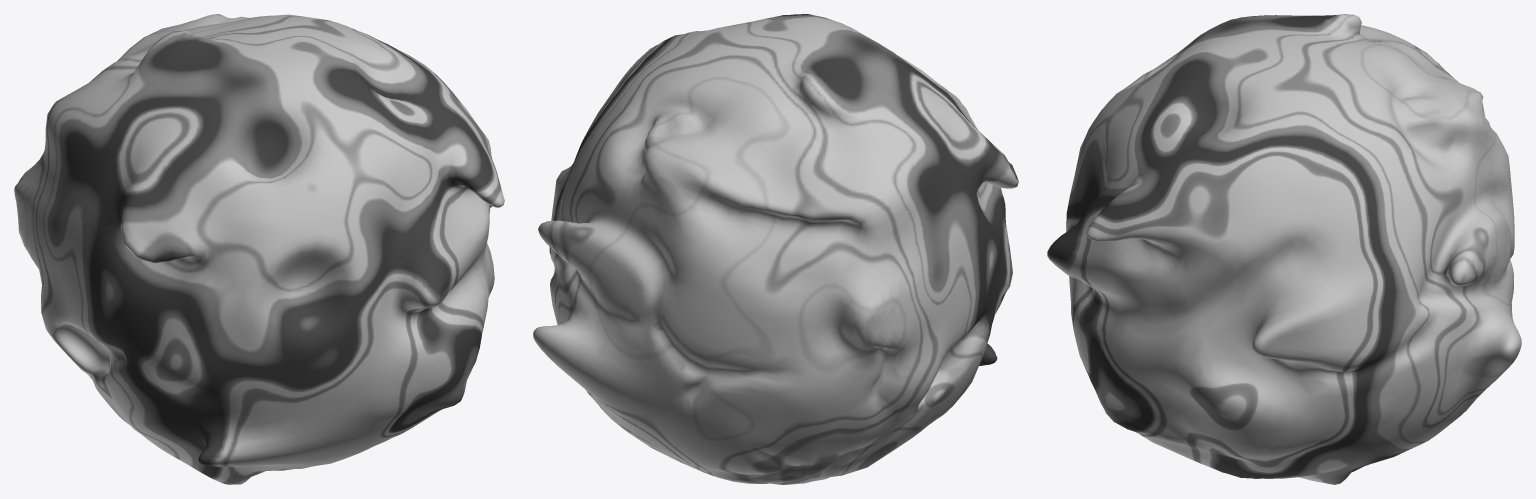
Rendered from Planet_03_rocks 0.5 quadratic texture.gltf.
3 renders of one model, left to right at view 1: azimuth 30°, elevation 25°; view 2: azimuth 150°, elevation 25°; view 3: azimuth 270°, elevation 25°, orthographic.
Parts seen in each view (by area): view 1: Planet_03_rocks; view 2: Planet_03_rocks; view 3: Planet_03_rocks.
Boxes of the visible parts, x1,y1,x2,y2 form: Planet_03_rocks: (14,14,504,484); Planet_03_rocks: (533,14,1018,484); Planet_03_rocks: (1047,14,1521,484).
Size of the model in its own units: 2.56 by 2.53 by 2.59.
Materials: 1 (1 with a texture image).
